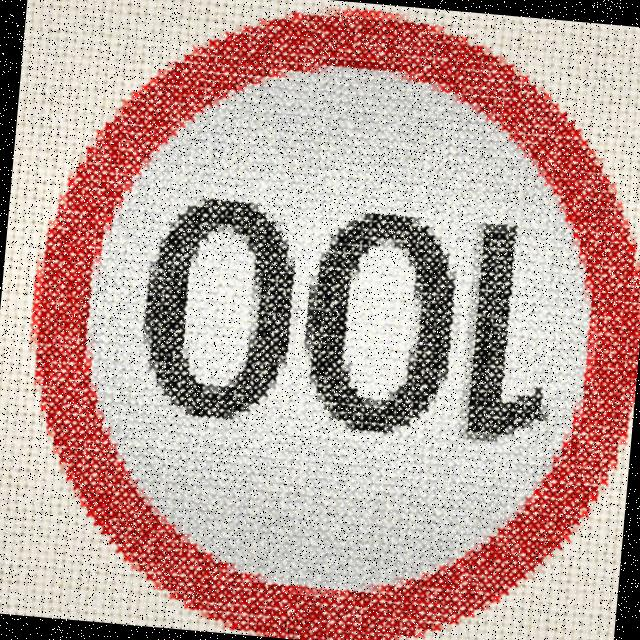speed_limit_100: (3, 0, 640, 640)
